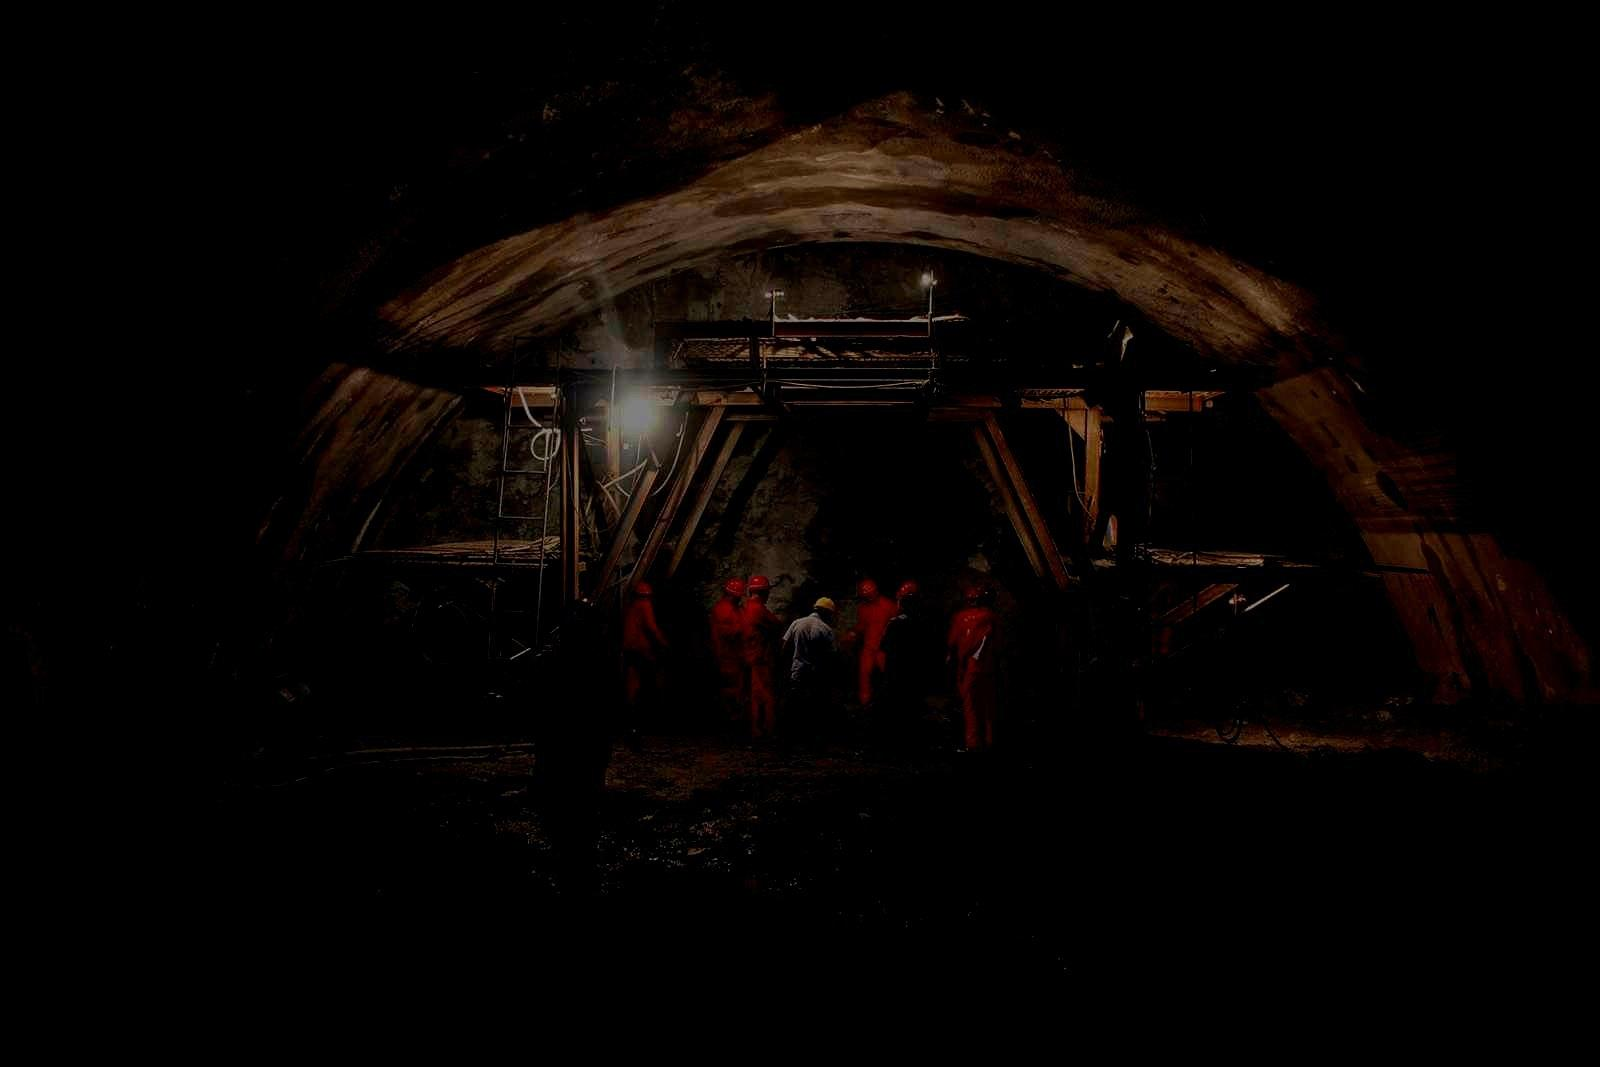helmet: (895, 581, 919, 614), (748, 574, 771, 604), (724, 574, 746, 604), (963, 585, 985, 607), (814, 597, 835, 620), (857, 579, 879, 600), (633, 581, 654, 601)
